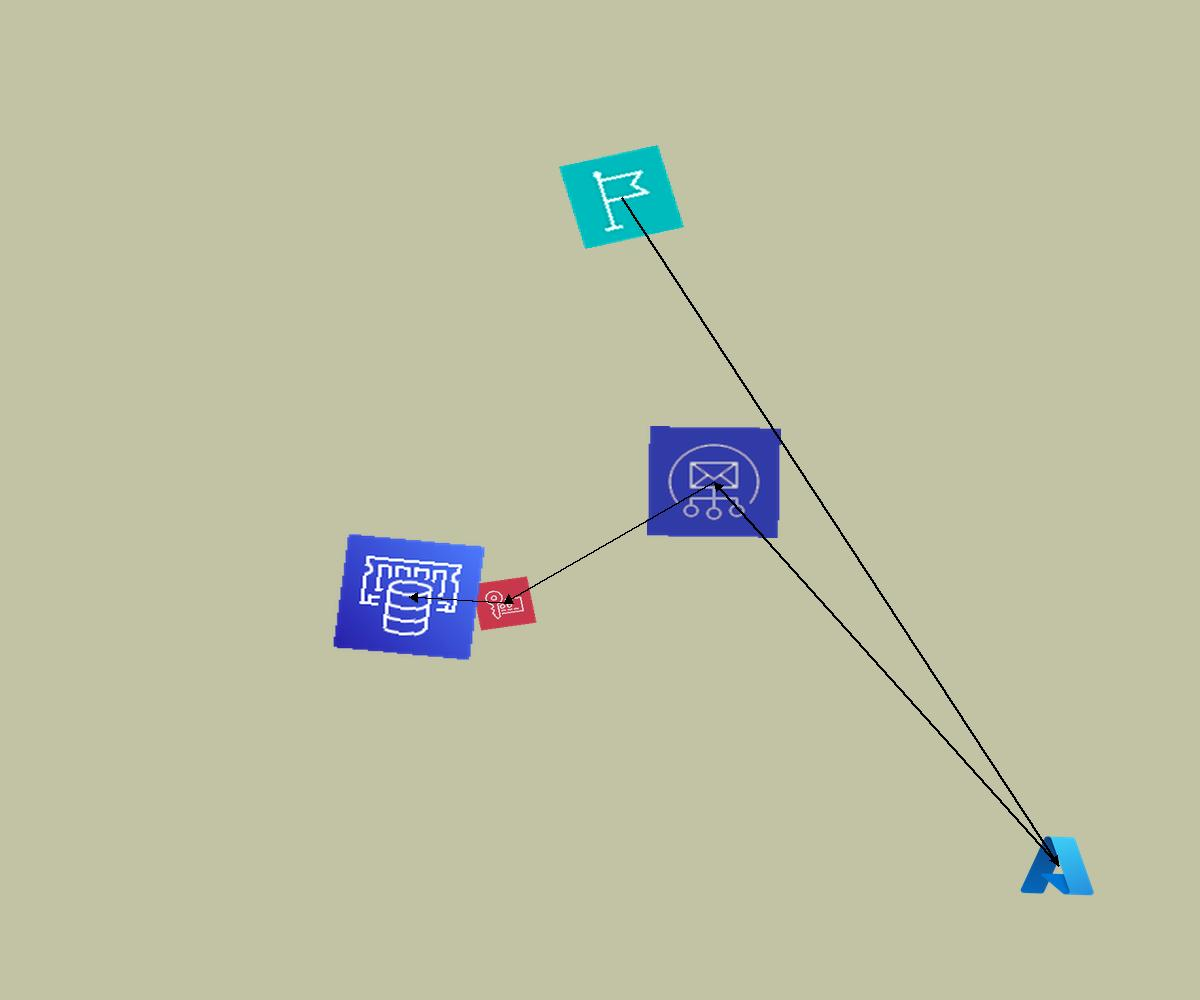AWS-ElastiCache: (332, 533, 486, 661)
AWS-Key-Management-Service: (471, 576, 537, 631)
AWS-Region: (559, 145, 684, 249)
AWS-Simple-Email-Service: (647, 426, 781, 538)
Azure_services: (1017, 831, 1100, 900)
